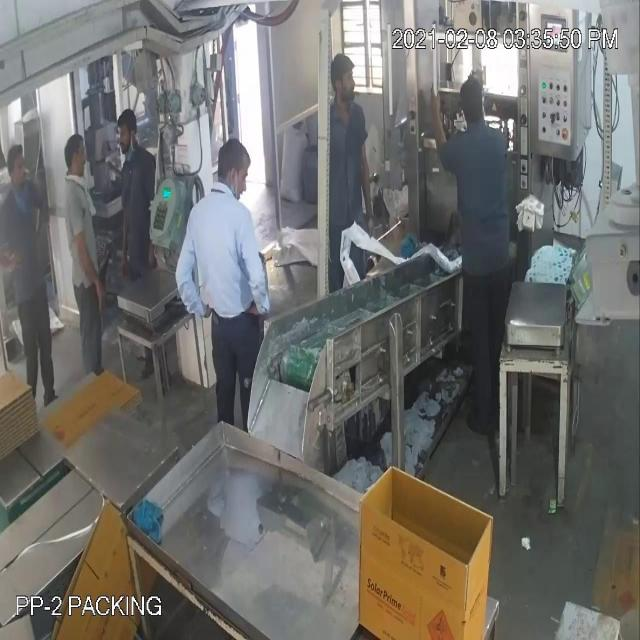No_Gloves: (18, 101, 439, 276)
